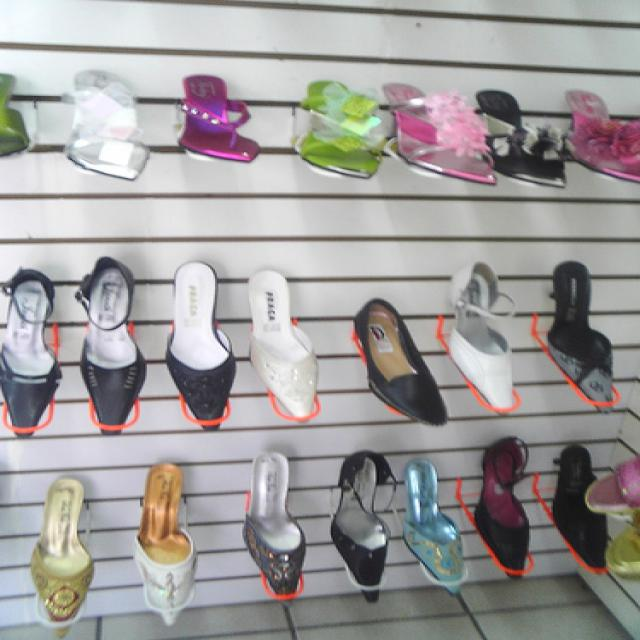floor -X: (2, 572, 635, 637)
sandal: (381, 81, 493, 183), (61, 68, 147, 179), (295, 77, 386, 177), (476, 88, 563, 184), (171, 73, 258, 160), (563, 88, 638, 180)
shoe: (160, 264, 236, 428), (75, 256, 145, 433), (352, 296, 447, 426), (544, 260, 614, 412), (246, 268, 317, 416), (133, 461, 196, 626), (31, 474, 94, 636), (447, 260, 510, 412), (239, 453, 302, 604), (329, 448, 389, 599), (471, 433, 529, 576), (401, 458, 461, 591), (551, 445, 608, 571)
